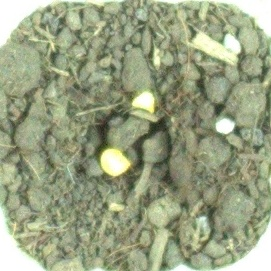chilli seed: (98, 147, 133, 178), (129, 88, 160, 115)
